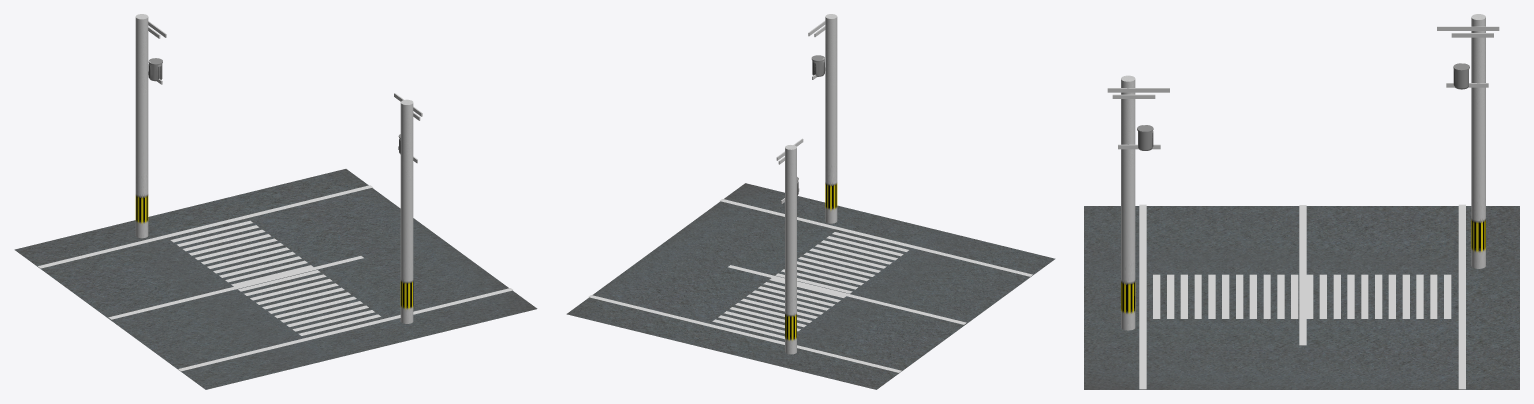
Rendered from oudan.fbx.
The picture shows the model from 3 angles, left to right: view 1: azimuth 30°, elevation 25°; view 2: azimuth 150°, elevation 25°; view 3: azimuth 270°, elevation 25°; orthographic projection. The views are drawn at different scales.
Parts seen in each view (by area): view 1: obj1, polySurface3, polySurface1, polySurface4; view 2: obj1, polySurface3, polySurface1, polySurface4; view 3: obj1, polySurface3, polySurface1, polySurface4.
Part boxes in pixels (x1,y1,x2,y2): obj1: [14, 169, 537, 389]; polySurface3: [135, 14, 422, 323]; polySurface1: [170, 220, 380, 335]; polySurface4: [38, 185, 513, 371]; obj1: [566, 183, 1055, 389]; polySurface3: [776, 14, 837, 354]; polySurface1: [712, 232, 908, 339]; polySurface4: [588, 199, 1032, 372]; obj1: [1084, 206, 1519, 389]; polySurface3: [1107, 14, 1499, 330]; polySurface1: [1153, 274, 1451, 318]; polySurface4: [1139, 204, 1465, 389].
Bounding box in the file's own units: 3007 × 1896 × 3000.
Materials: 3 (2 with a texture image).
